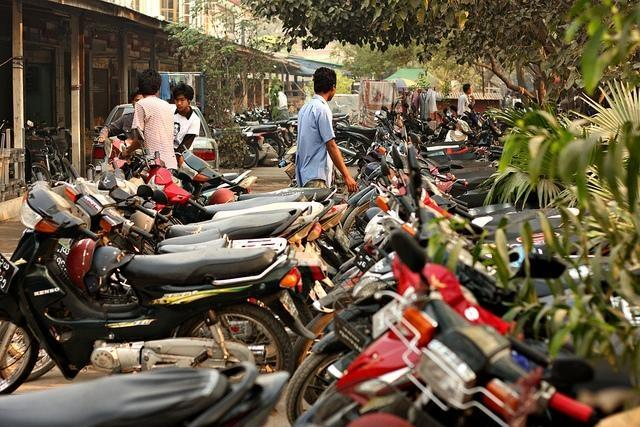car: (92, 104, 220, 172), (350, 81, 361, 95)
motorcycle: (0, 168, 319, 396), (288, 288, 640, 427), (51, 155, 331, 308), (0, 364, 287, 427), (118, 187, 346, 266), (134, 124, 320, 219), (283, 275, 400, 421), (173, 146, 338, 204), (419, 196, 583, 248), (402, 147, 518, 218), (335, 122, 379, 166), (244, 135, 262, 169), (459, 192, 488, 207)
